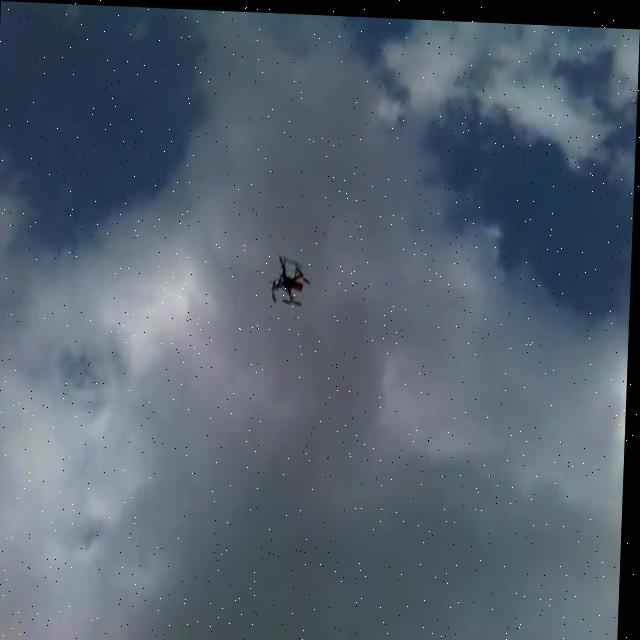drone: (270, 252, 314, 311)
